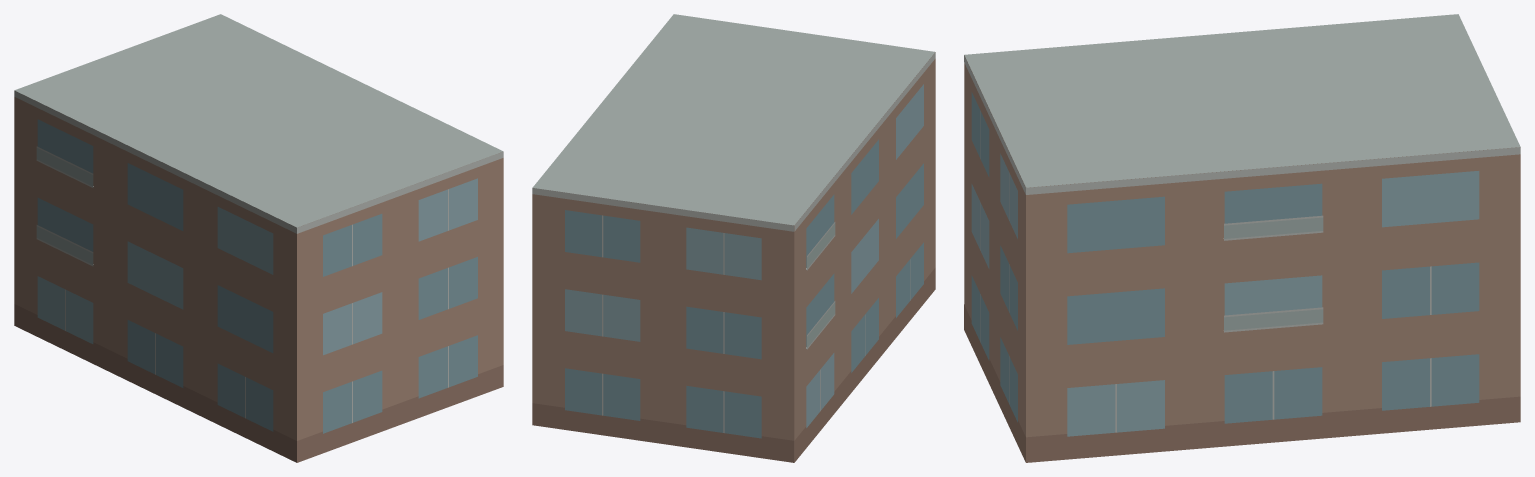
The model's file is survey-upis-32708123.glb.
3 views of the same model, side by side, from view 1: azimuth 30°, elevation 25°; view 2: azimuth 150°, elevation 25°; view 3: azimuth 270°, elevation 25° (orthographic). The views are drawn at different scales.
Parts seen in each view (by area): view 1: survey-upis-32708123.tmp; view 2: survey-upis-32708123.tmp; view 3: survey-upis-32708123.tmp.
Part boxes in pixels (x1=…): survey-upis-32708123.tmp: x1=14, y1=14, x2=503, y2=462; survey-upis-32708123.tmp: x1=532, y1=14, x2=935, y2=462; survey-upis-32708123.tmp: x1=964, y1=14, x2=1520, y2=462.
Size of the model in its own units: 12.4 by 9.15 by 16.78.
